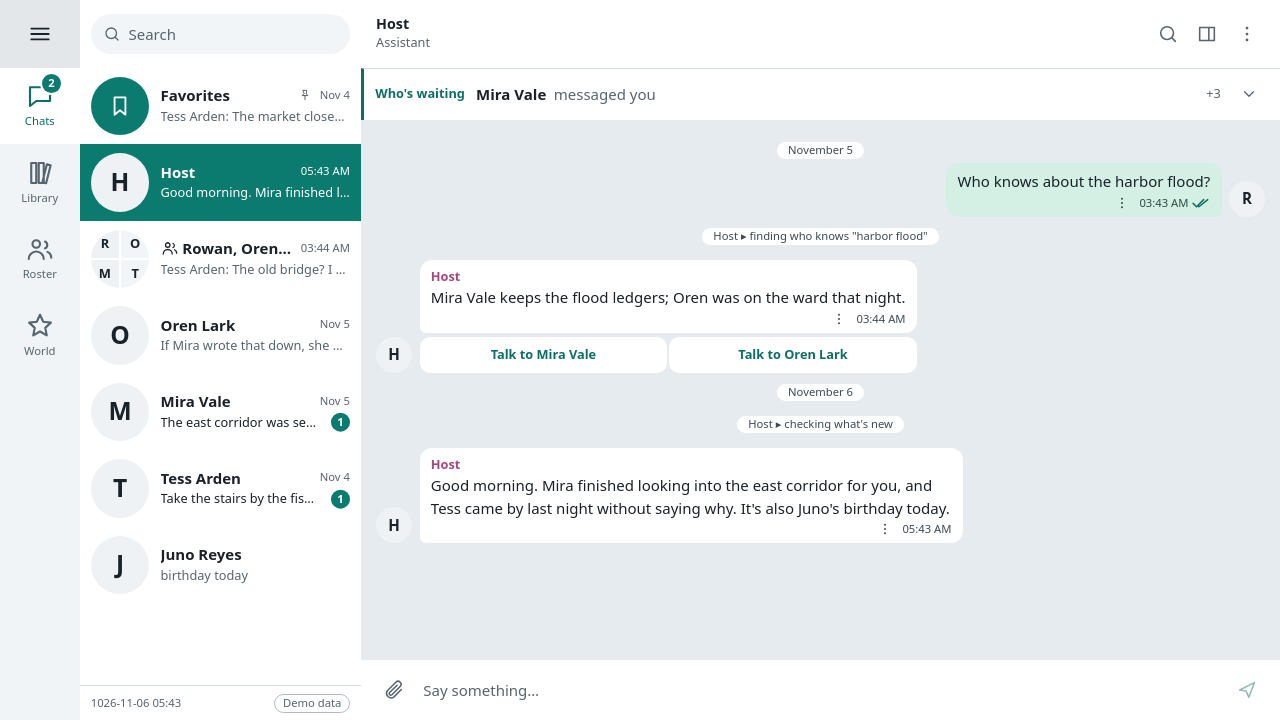
Test: endpoints: a failed check shows the endpoint's own text, a manual field, and the key can be stored from the same editor
Expected: the heading "Who's waiting" is shown, 375,86 -> 465,102
Click the button named "Menu" at (40, 34), box 0,0 -> 80,68
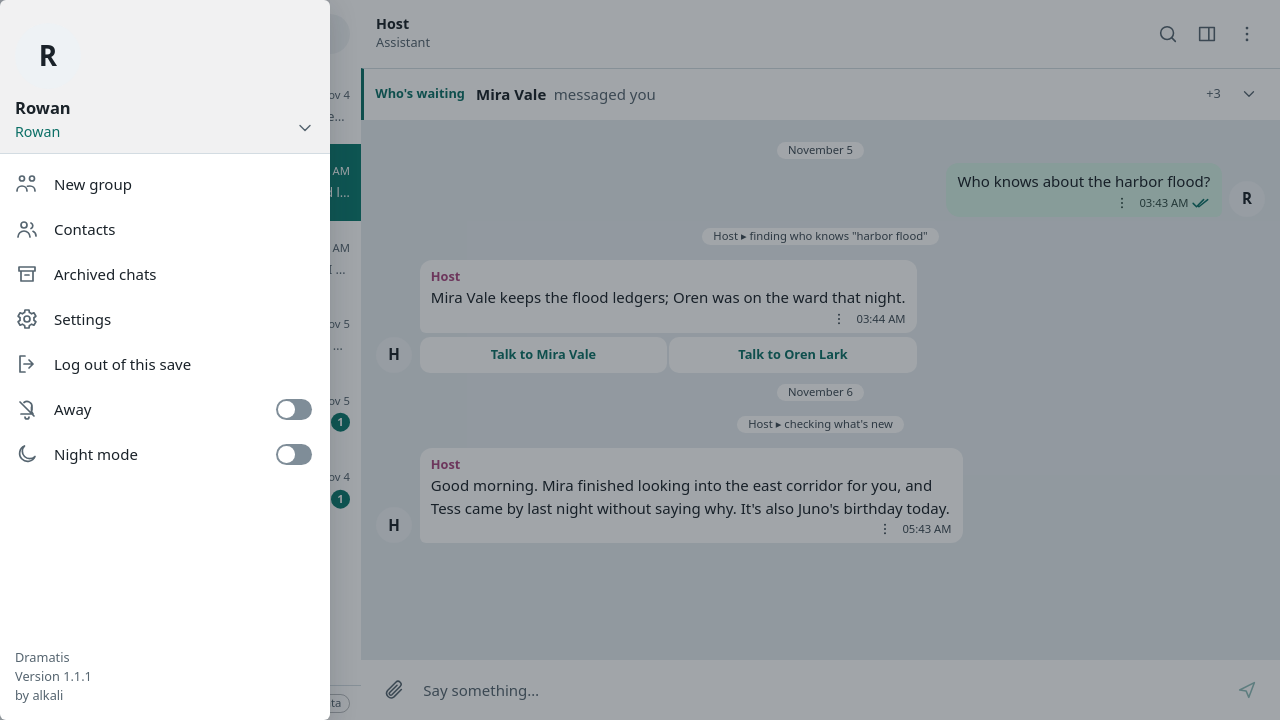
Click the button "Settings" at (83, 319), box 0,297 -> 330,342
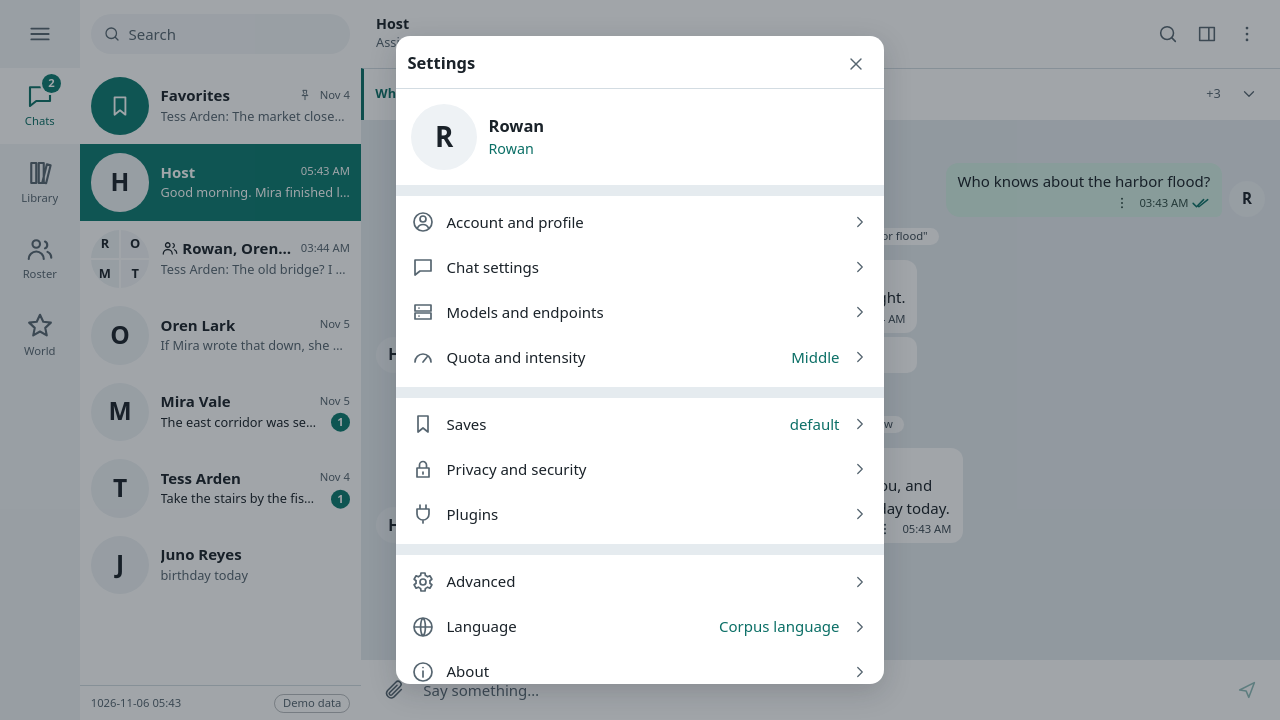
Click the button "Models and endpoints" at (525, 312), box 396,290 -> 884,334
(page scrolled)
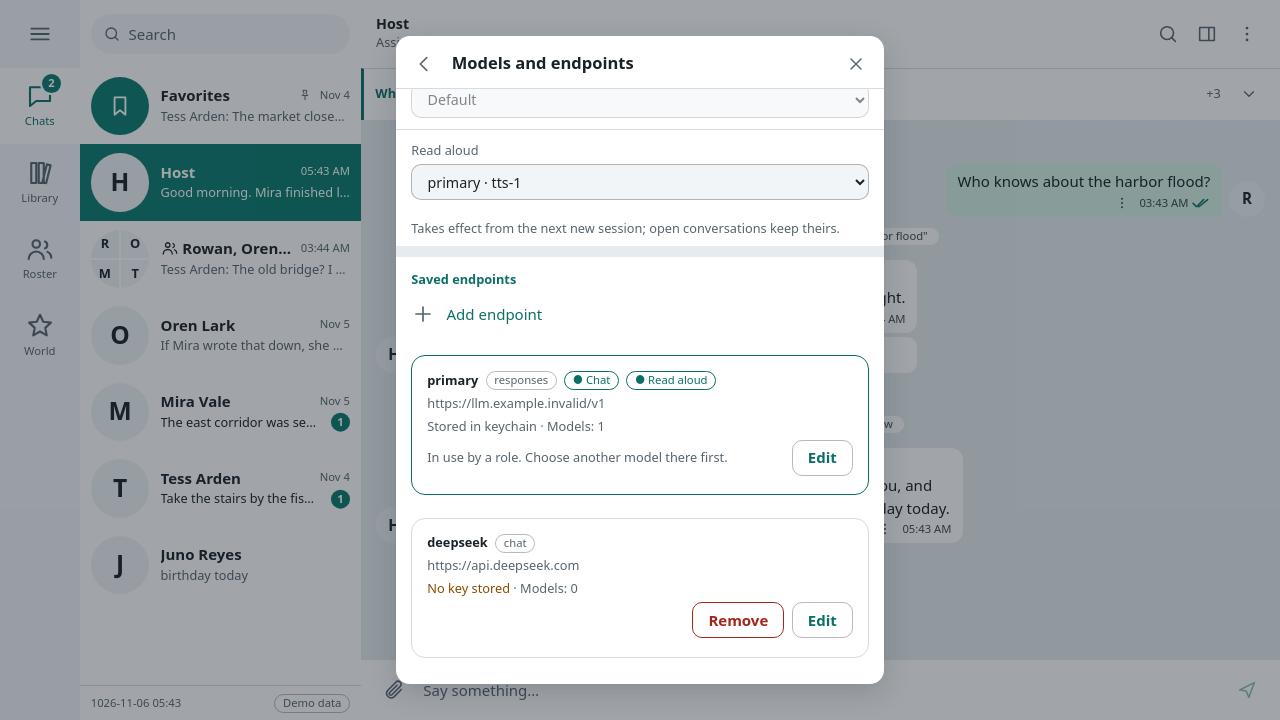
Expected: the text "No key stored" is shown, 427,579 -> 510,597
Click the button with aria-label "Edit deepseek" at (822, 620), box 792,602 -> 853,638
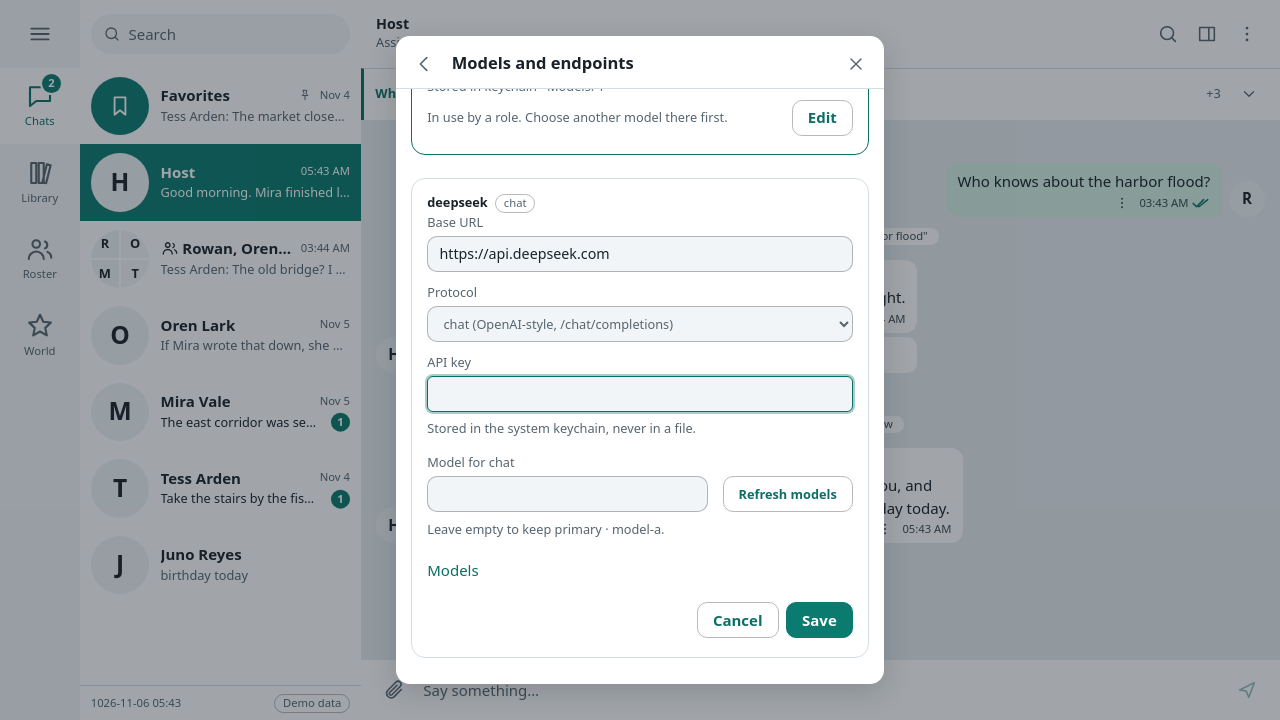
Click the button "Refresh models" at (788, 494), box 722,476 -> 853,512
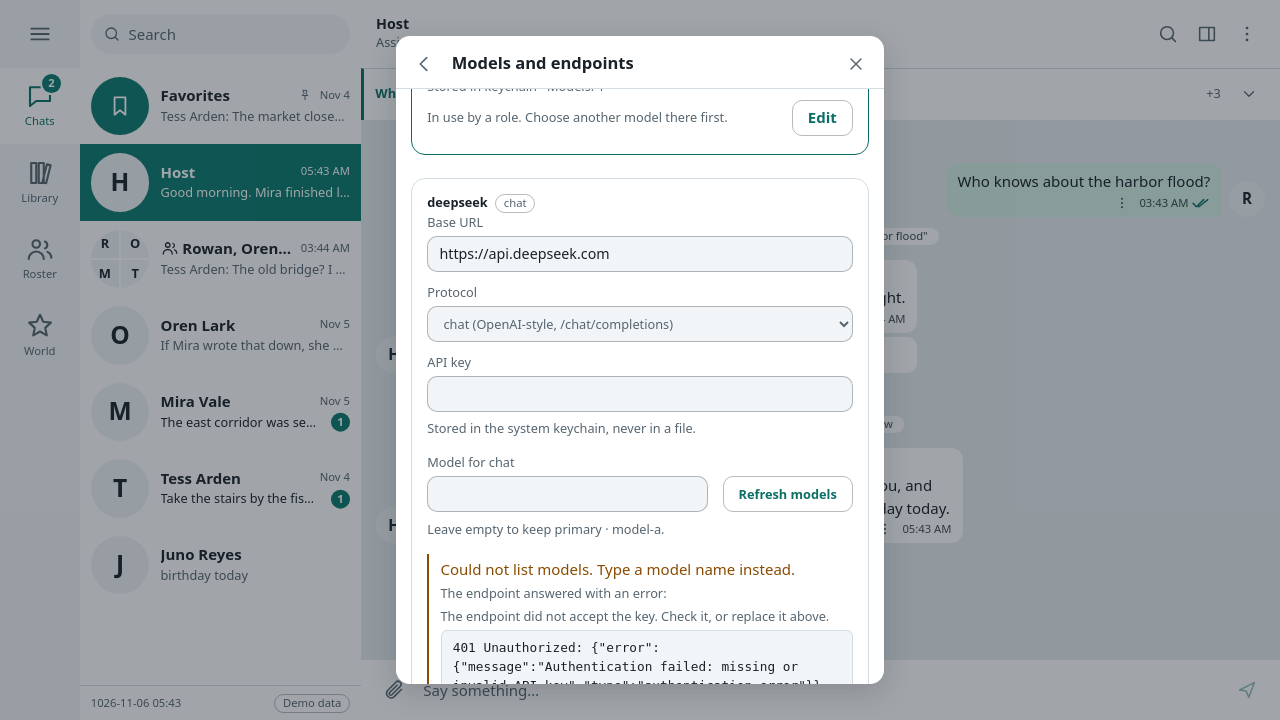
Expected: the field labelled "Model for chat" is shown, 427,476 -> 708,512
Expected: the text "401 Unauthorized" is shown, 453,640 -> 821,684
Type "sk-test" into the password field labelled "API key" at (640, 394), box 427,376 -> 853,412
Click the button "Refresh models" at (788, 494), box 722,476 -> 853,512
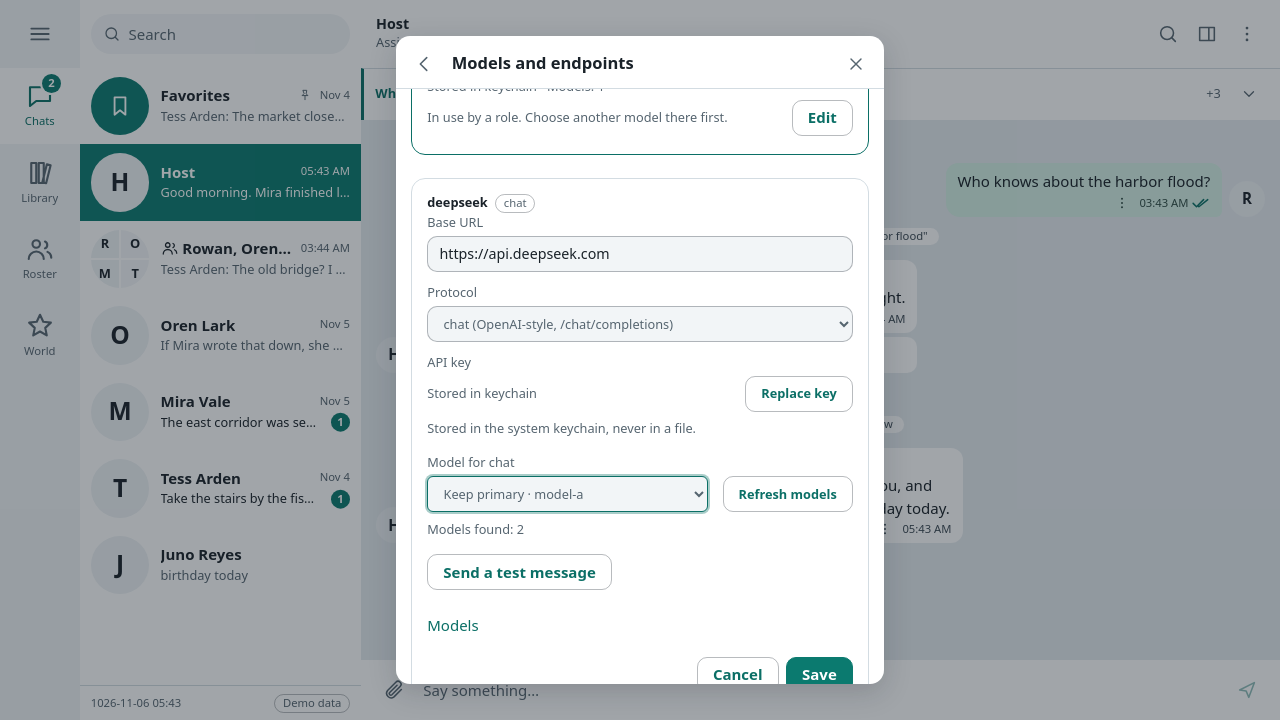
Expected: the text "Stored in keychain" is shown, 427,384 -> 537,402
Expected: the text "Models found: 2" is shown, 427,520 -> 524,538
